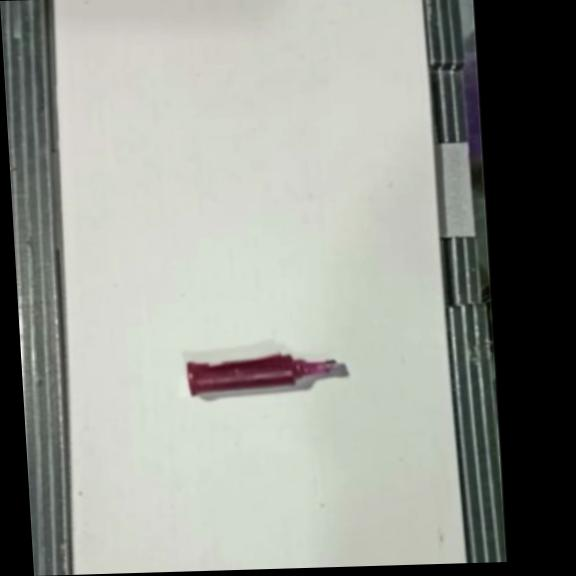Plastik: (187, 349, 343, 398)
